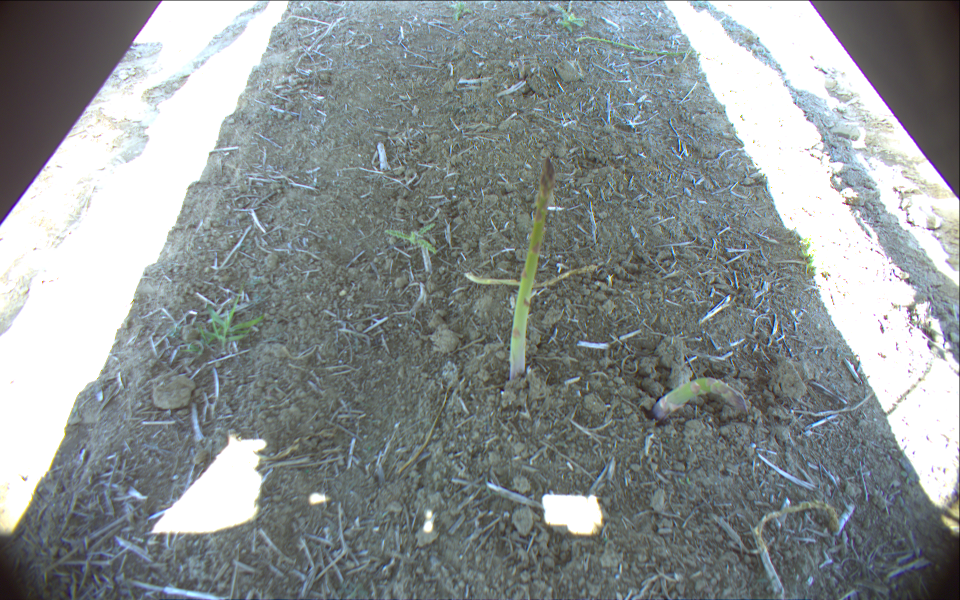aspa: (508, 156, 556, 378), (751, 498, 839, 600), (650, 378, 748, 425), (465, 263, 600, 291), (574, 34, 696, 55)
